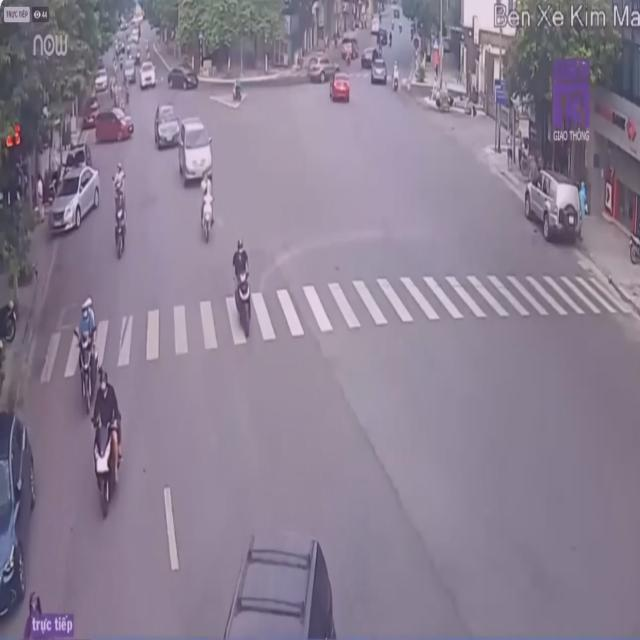car: (216, 540, 341, 638), (0, 409, 38, 616), (524, 163, 580, 244), (50, 168, 102, 230), (176, 114, 215, 184), (154, 103, 180, 149)
motorbike: (87, 368, 126, 522), (74, 295, 101, 412), (228, 238, 254, 342), (197, 172, 216, 245), (111, 193, 130, 260), (114, 166, 126, 207)
